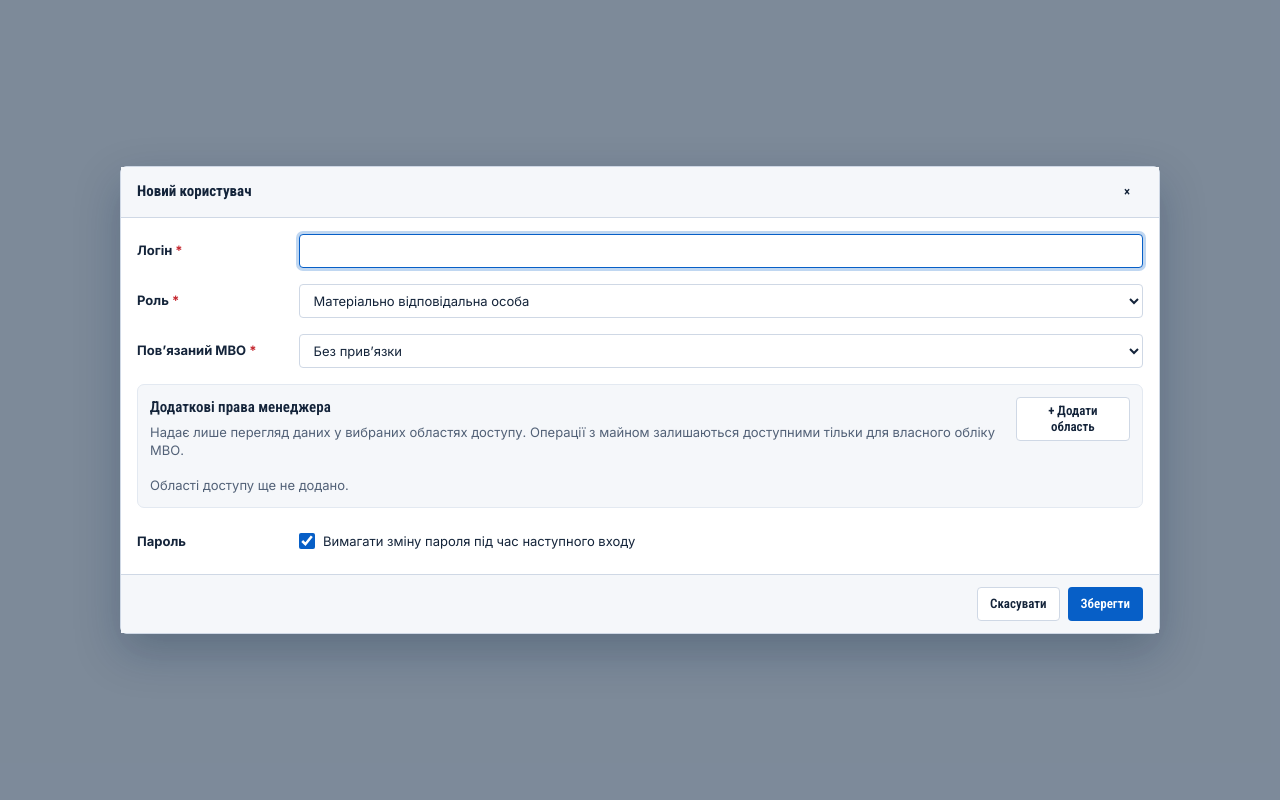
Scenario: UserFormModal manager access scopes › blocks the global all-managements and all-services combination
Step 1. Type "manager" into the field labelled "Логін *" → (721, 251), box [299, 234, 1143, 268]
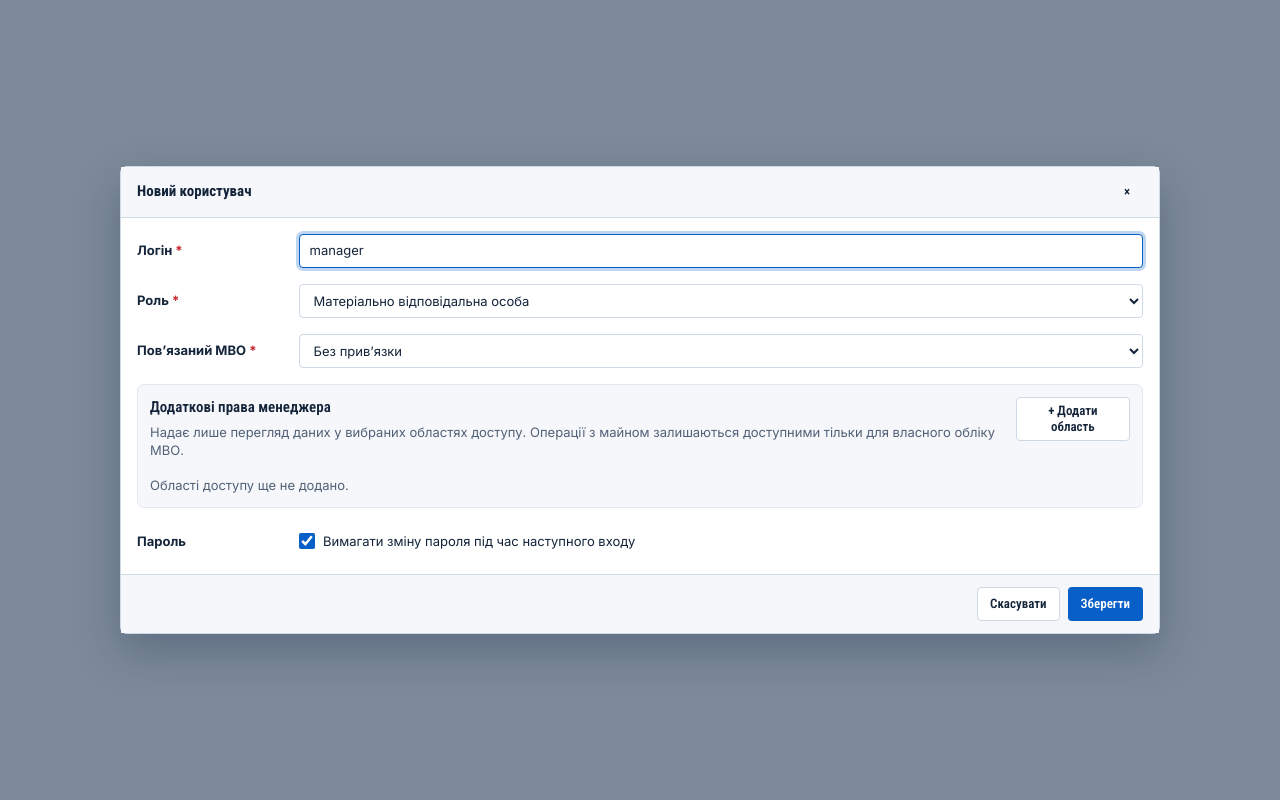
Step 2. Select "Менеджер" in the dropdown labelled "Роль *" → (721, 301), box [299, 284, 1143, 318]
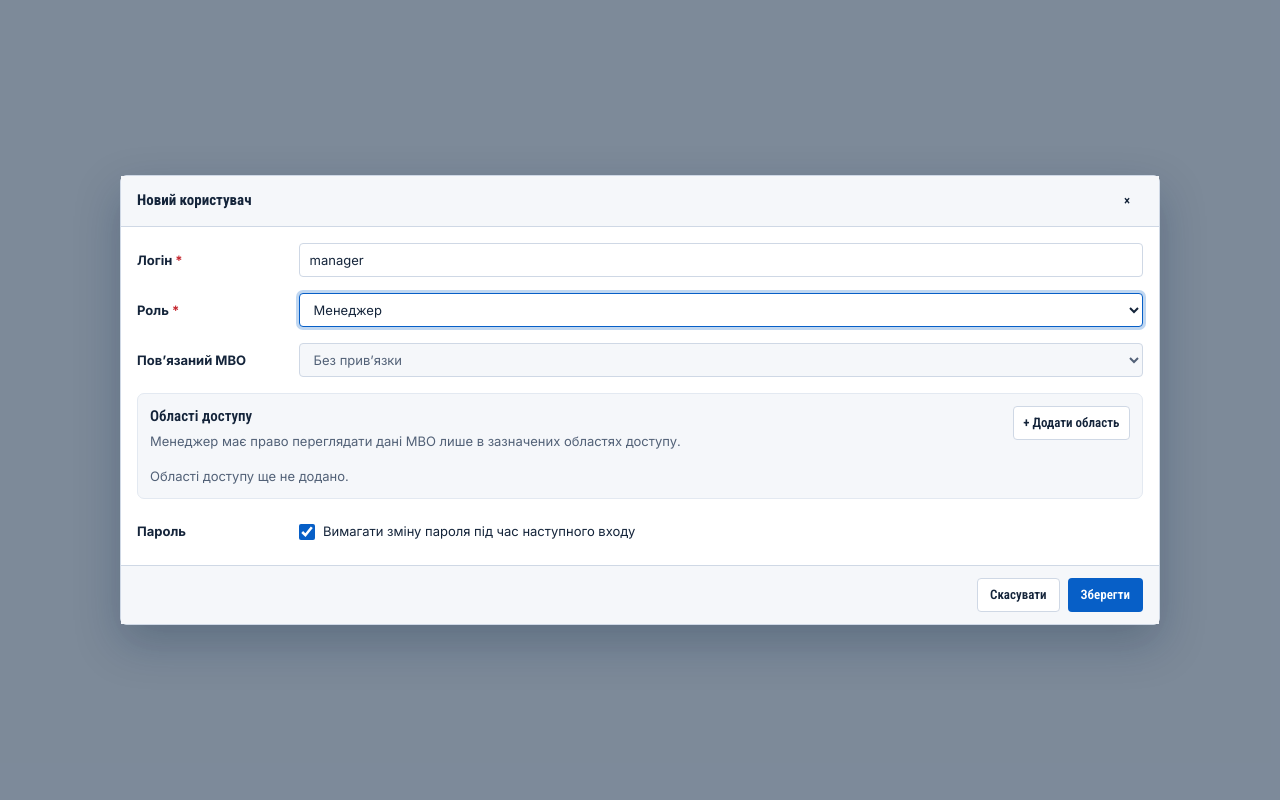
Step 3. Click the button "+ Додати область" → (1071, 423), box [1013, 406, 1130, 440]
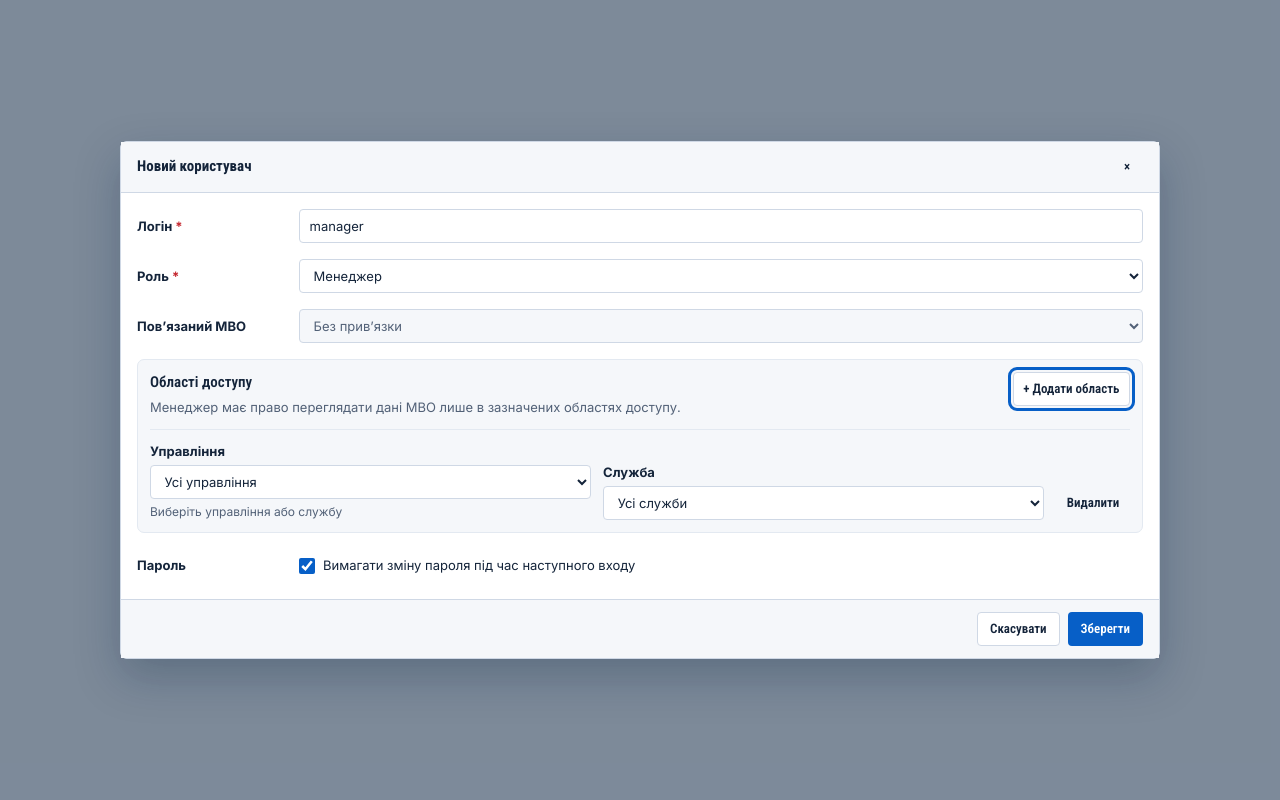
Step 4. Click the button "Зберегти" → (1105, 629), box [1068, 612, 1143, 646]
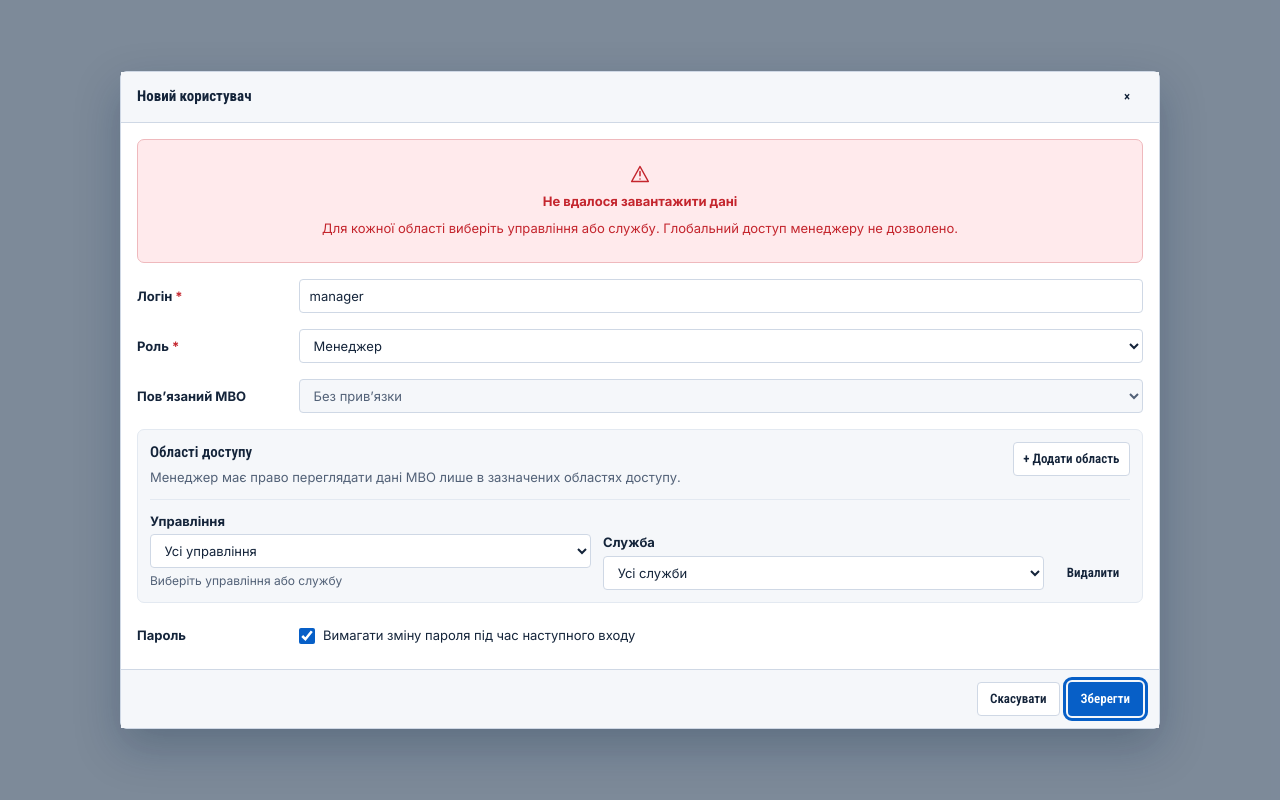
Check: the text "Глобальний доступ менеджеру не дозволено" is shown, box [322, 220, 958, 236]
